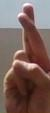R: (0, 1, 50, 109)
